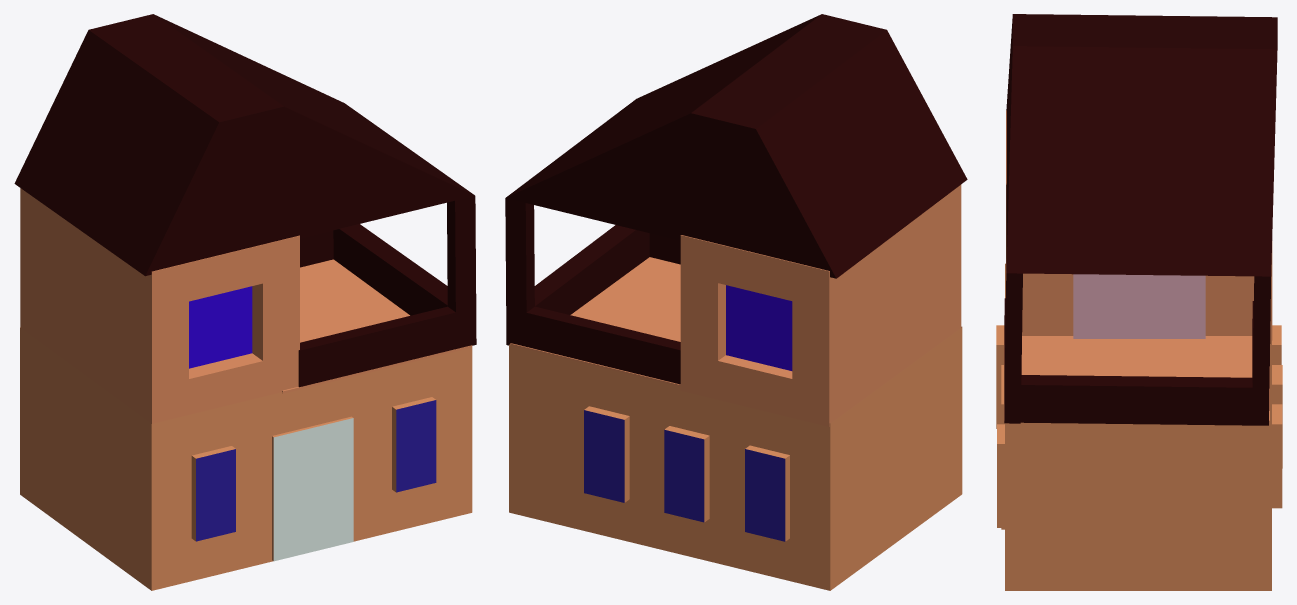
The model's file is house.glb.
The picture shows the model from 3 angles, left to right: view 1: azimuth 30°, elevation 25°; view 2: azimuth 150°, elevation 25°; view 3: azimuth 270°, elevation 25°; orthographic projection.
Parts seen in each view (by area): view 1: Cube.002, Cube, Cube.001; view 2: Cube.002, Cube, Cube.001; view 3: Cube.002, Cube, Cube.001.
Part boxes in pixels (x1=…): Cube.002: x1=14, y1=14, x2=476, y2=387; Cube: x1=20, y1=327, x2=472, y2=590; Cube.001: x1=20, y1=188, x2=472, y2=423; Cube.002: x1=505, y1=14, x2=967, y2=384; Cube: x1=509, y1=326, x2=962, y2=590; Cube.001: x1=510, y1=184, x2=961, y2=426; Cube.002: x1=1004, y1=14, x2=1277, y2=425; Cube: x1=996, y1=263, x2=1282, y2=590; Cube.001: x1=1004, y1=110, x2=1272, y2=422.
Size of the model in its own units: 51.82 by 67.25 by 38.41.
